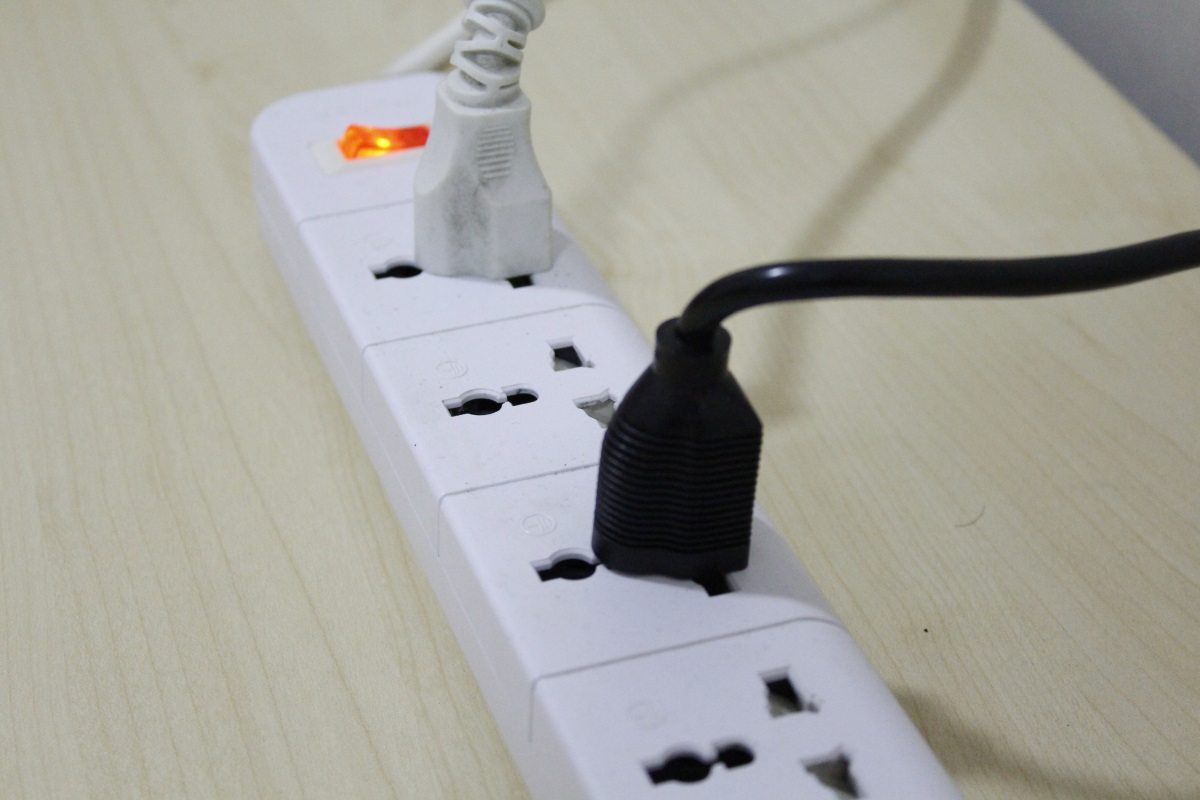Three_eye_plug: (240, 57, 985, 800)
